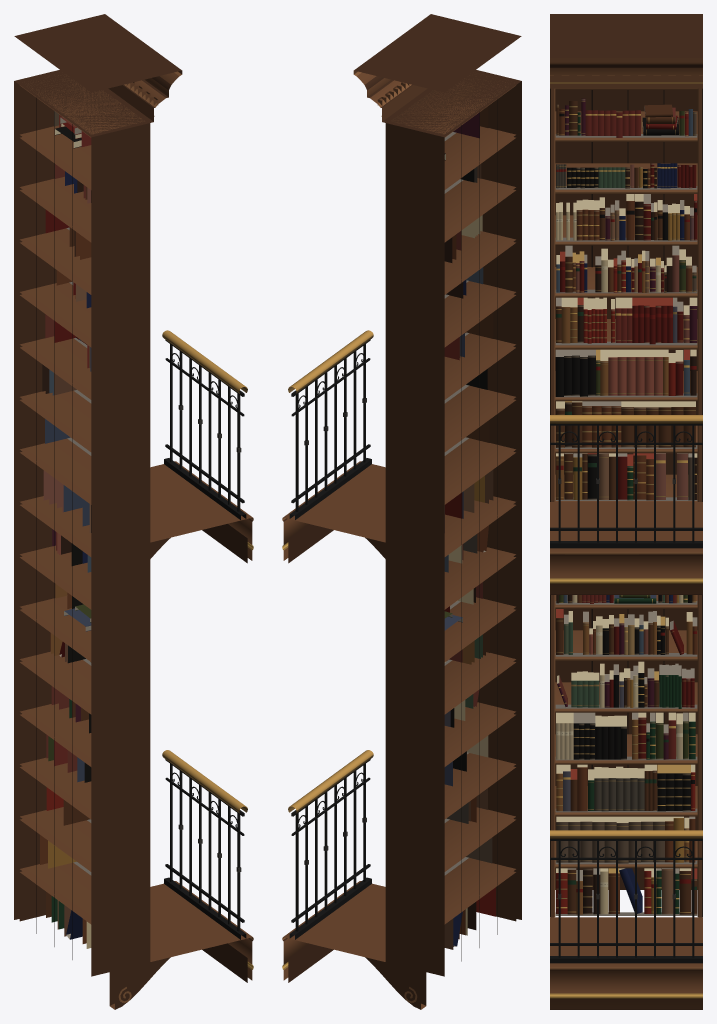
Rendered from library_wall_upper.glb.
3 renders of one model, left to right at view 1: azimuth 30°, elevation 25°; view 2: azimuth 150°, elevation 25°; view 3: azimuth 270°, elevation 25°, orthographic.
Visible parts, largest first — view 1: regalwand; view 2: regalwand; view 3: regalwand.
Boxes of the visible parts, box(x1,y1,x2,y2) form: regalwand: box(14, 14, 253, 1009); regalwand: box(282, 14, 521, 1009); regalwand: box(550, 14, 702, 1009).
Size of the model in its own units: 1.22 by 6.85 by 1.
